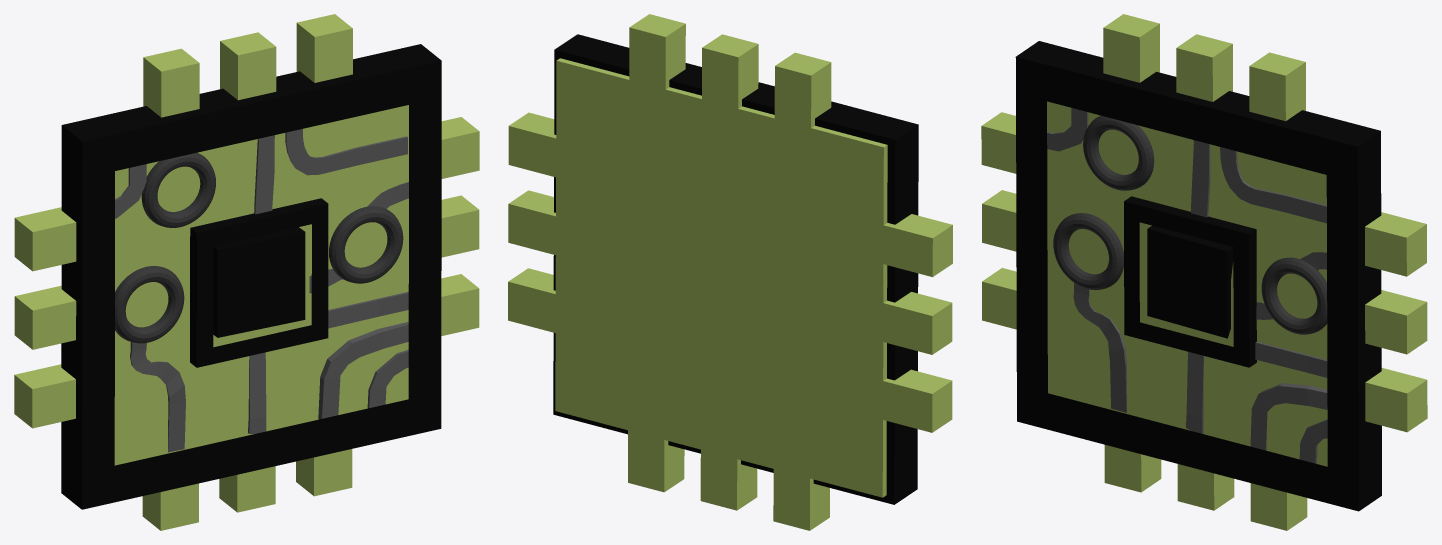
File: chip9.gltf
3 views of the same model, side by side, from view 1: azimuth 30°, elevation 25°; view 2: azimuth 150°, elevation 25°; view 3: azimuth 330°, elevation 25° (orthographic).
Visible parts, largest first — view 1: Cube, Cube2, Cube1, Cube3, Torus, Cube4; view 2: Cube, Cube2; view 3: Cube, Cube2, Cube1, Cube3, Torus, Cube4.
Boxes of the visible parts, x1=… form: Cube: x1=14, y1=14, x2=479, y2=530; Cube2: x1=61, y1=44, x2=441, y2=509; Cube1: x1=115, y1=129, x2=408, y2=452; Cube3: x1=190, y1=198, x2=328, y2=367; Torus: x1=115, y1=152, x2=403, y2=343; Cube4: x1=213, y1=227, x2=305, y2=337; Cube: x1=508, y1=14, x2=952, y2=530; Cube2: x1=553, y1=34, x2=918, y2=504; Cube: x1=981, y1=14, x2=1427, y2=530; Cube2: x1=1015, y1=41, x2=1381, y2=511; Cube1: x1=1047, y1=108, x2=1327, y2=463; Cube3: x1=1124, y1=196, x2=1256, y2=367; Torus: x1=1053, y1=115, x2=1327, y2=334; Cube4: x1=1147, y1=225, x2=1233, y2=338.
Bounding box in the file's own units: 2.6 × 2.6 × 0.351.
